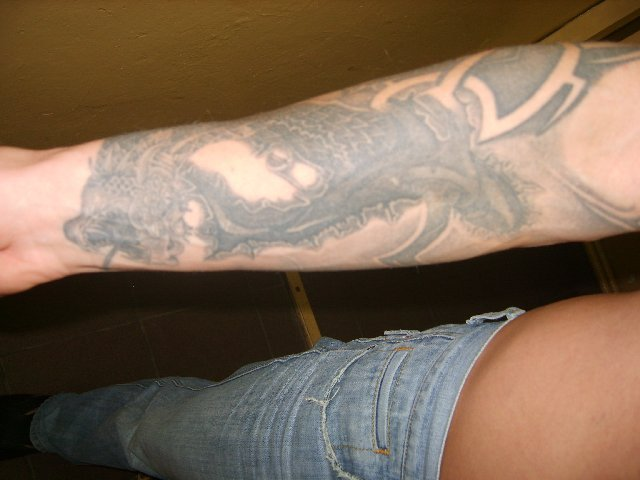tatu6_drakon: (42, 51, 640, 284)
